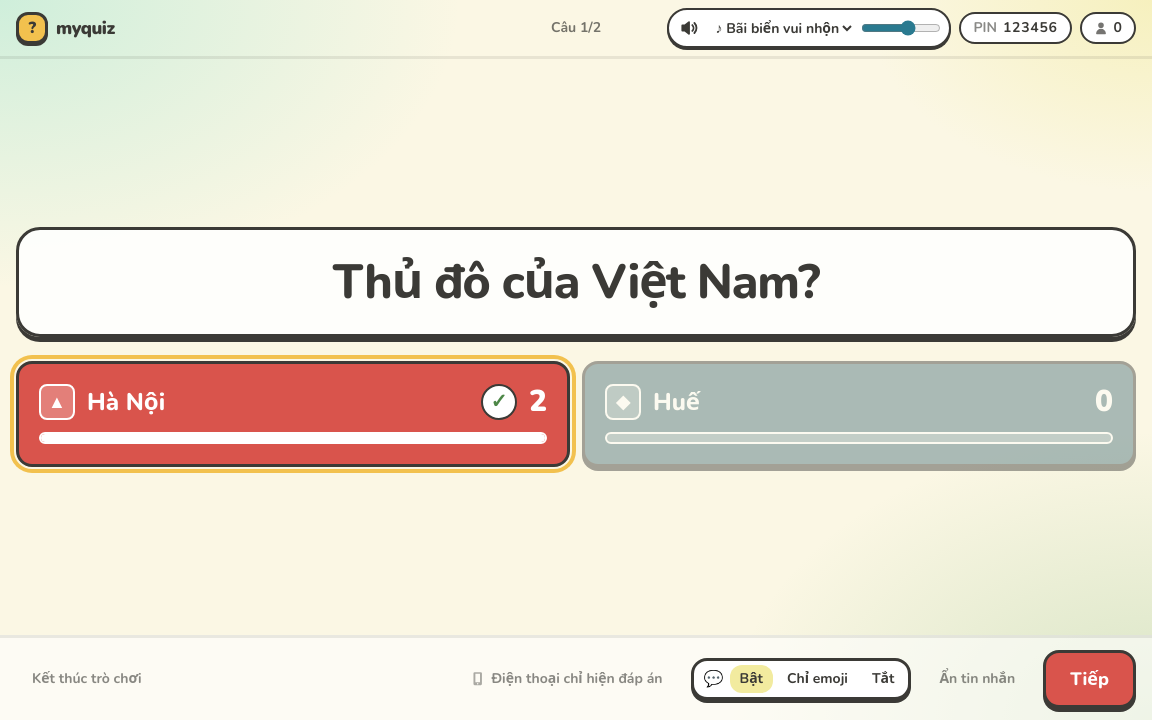
Test: a host who reloads during the reveal, leaderboard or podium sees that screen again
The width and height of the screenshot is (1152, 720).
Expected: the heading "Thủ đô của Việt Nam?" is shown, left=16, top=227, right=1136, bottom=337
Click the button "Tiếp".
click(1090, 679)  # box left=1043, top=650, right=1136, bottom=708
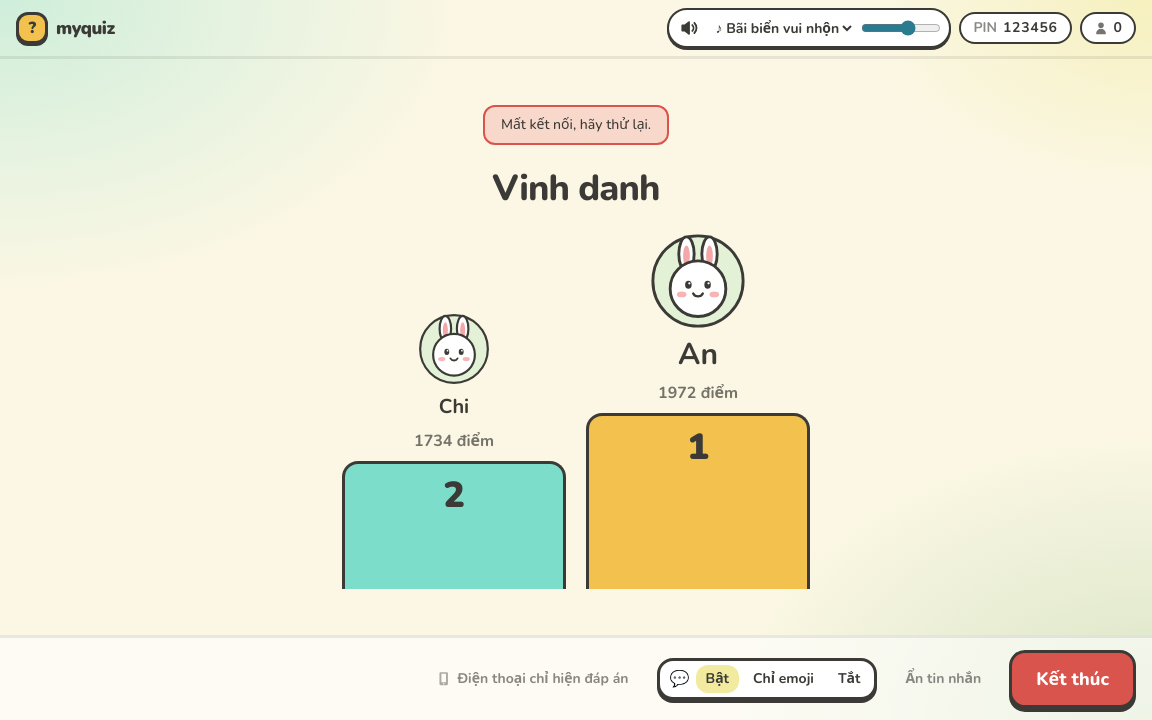
Expected: the text "Vinh danh" is shown, left=492, top=169, right=660, bottom=209
Expected: the text "An" is shown, left=678, top=334, right=718, bottom=375
Expected: the text "1972 điểm" is shown, left=658, top=381, right=738, bottom=405
